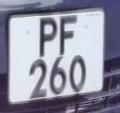0: (68, 53, 90, 96)
2: (25, 55, 51, 102)
6: (48, 54, 70, 99)
F: (57, 13, 81, 58)
P: (36, 13, 60, 61)
